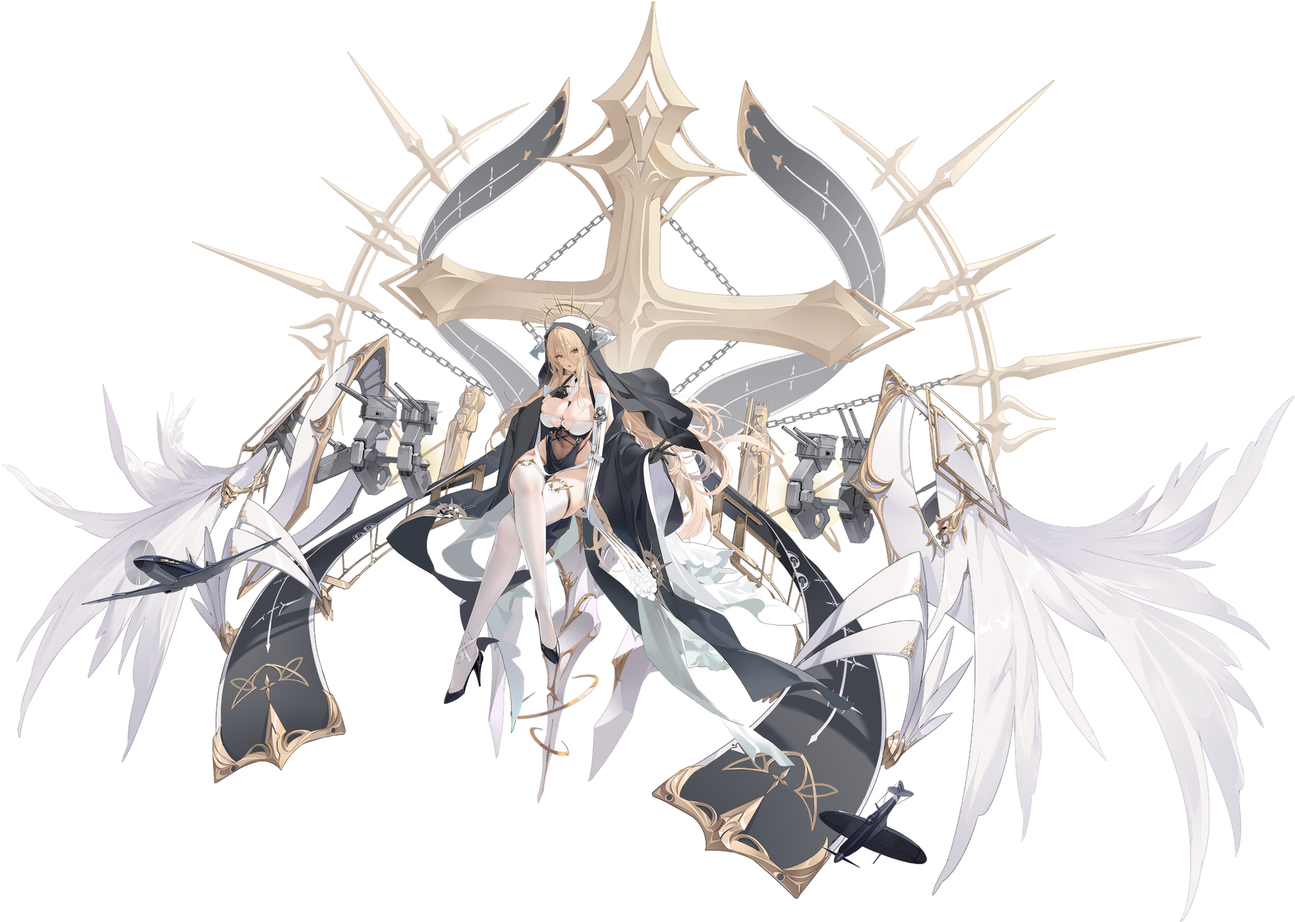person: (433, 284, 706, 815)
